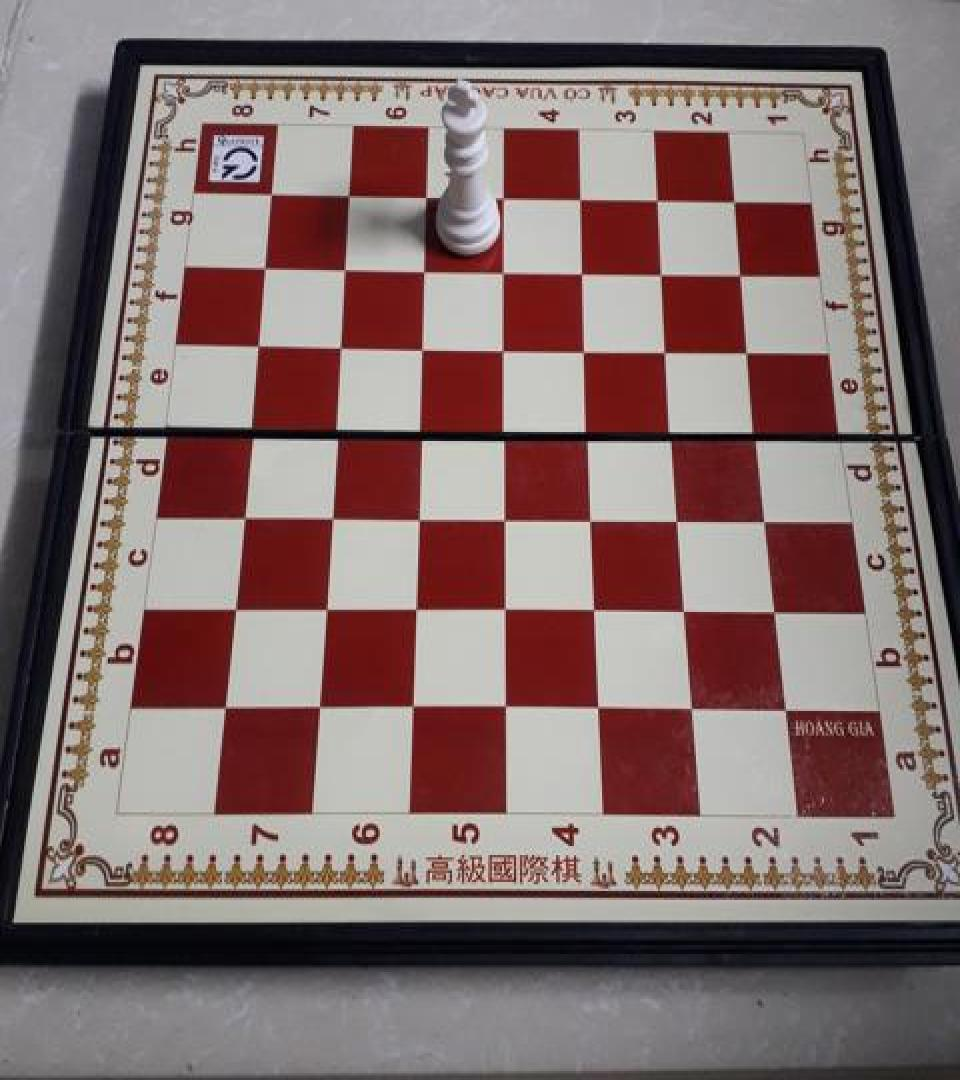xcorner: (399, 688, 431, 725), (493, 688, 525, 725), (585, 688, 617, 725), (678, 689, 710, 726), (770, 689, 802, 726), (402, 588, 434, 625), (212, 688, 244, 724), (306, 688, 338, 724), (221, 587, 253, 623), (312, 587, 344, 623), (492, 590, 524, 626), (582, 590, 614, 626), (671, 590, 703, 626), (760, 590, 792, 626), (229, 494, 261, 530), (317, 495, 349, 531), (405, 495, 437, 531), (492, 496, 524, 532), (579, 497, 611, 533), (665, 497, 697, 533), (751, 498, 783, 534), (237, 406, 269, 442), (322, 407, 354, 443), (407, 408, 439, 444), (491, 410, 523, 446), (575, 410, 607, 446), (659, 410, 691, 446), (743, 412, 775, 448), (245, 324, 277, 360), (327, 325, 359, 361), (409, 326, 441, 362), (491, 328, 523, 364), (654, 330, 686, 366), (735, 331, 767, 367), (252, 248, 284, 284), (332, 248, 364, 284), (411, 250, 443, 286), (491, 251, 523, 287), (570, 252, 602, 288), (648, 253, 680, 289), (727, 254, 759, 290), (258, 174, 290, 210), (336, 176, 368, 212), (413, 176, 445, 212), (490, 178, 522, 214), (567, 179, 599, 215), (644, 180, 676, 216), (720, 182, 752, 218), (572, 329, 604, 364)
